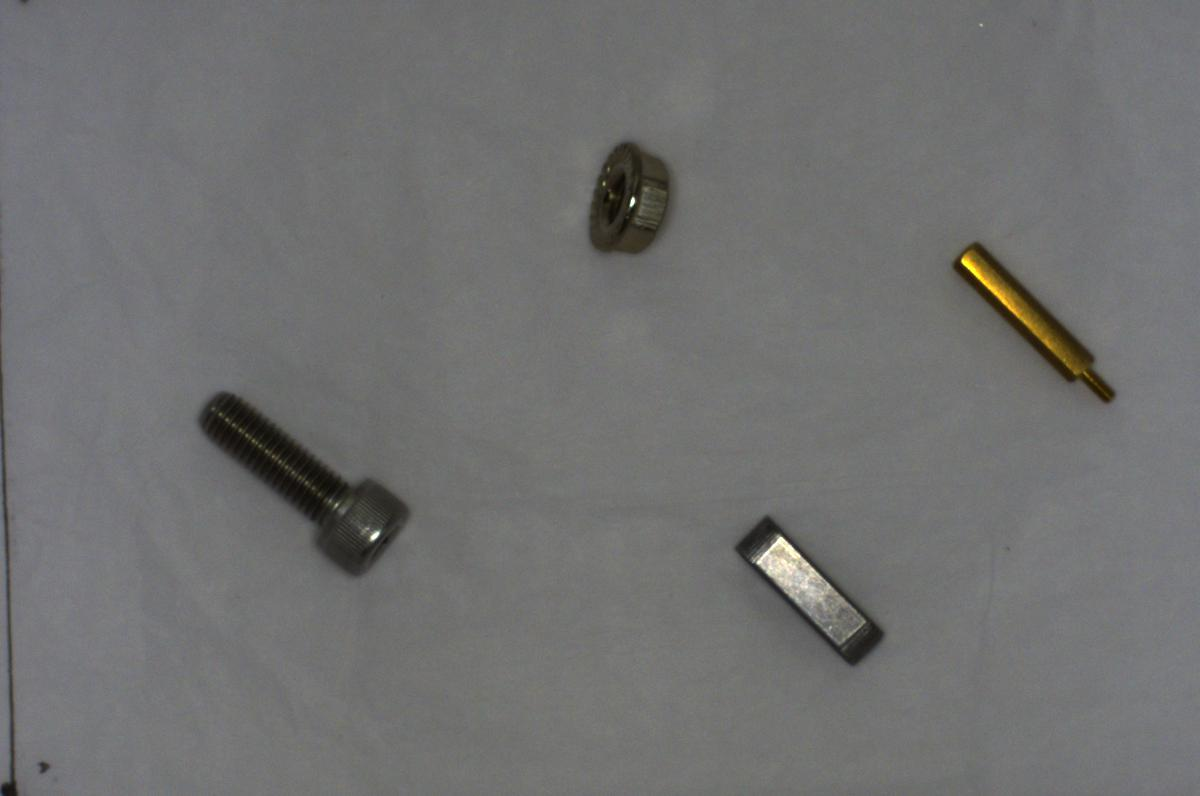Flange nut: (581, 127, 675, 259)
Hexagon pillar: (948, 238, 1120, 405)
Hexagon screw: (192, 388, 408, 569)
Keybar: (738, 515, 887, 666)
